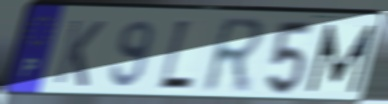5: (262, 18, 315, 98)
9: (107, 19, 156, 90)
K: (51, 16, 108, 89)
L: (154, 17, 196, 95)
M: (304, 22, 379, 95)
R: (199, 16, 269, 98)
